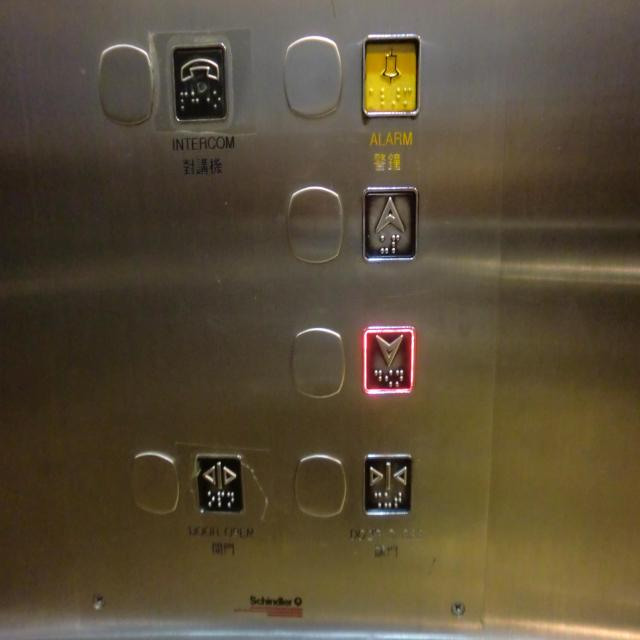alarm: (360, 31, 422, 120)
call: (170, 40, 230, 124)
close: (362, 452, 413, 517)
down: (362, 325, 414, 394)
open: (194, 453, 244, 515)
up: (361, 186, 419, 263)
